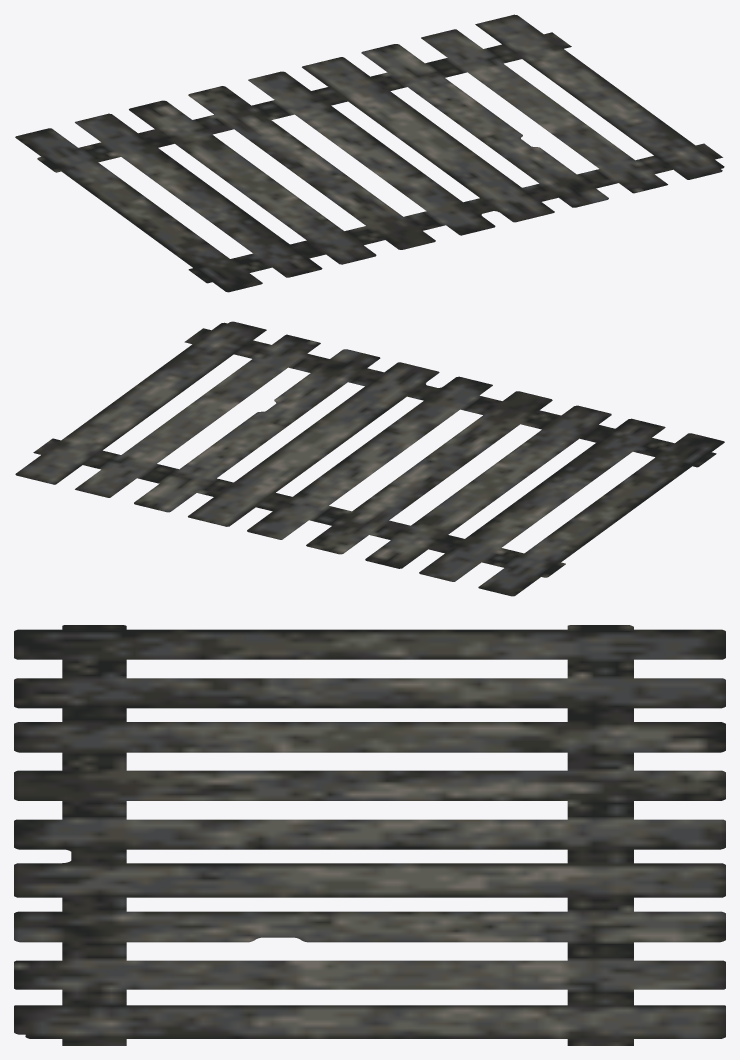
Rendered from SM_EC_Fence_Card_06.fbx.
The picture shows the model from 3 angles, top to bottom: view 1: azimuth 30°, elevation 25°; view 2: azimuth 150°, elevation 25°; view 3: azimuth 270°, elevation 25°; orthographic projection. The views are drawn at different scales.
Visible parts, largest first — view 1: SM_EC_Fence_Card_06; view 2: SM_EC_Fence_Card_06; view 3: SM_EC_Fence_Card_06.
Part boxes in pixels (left/top/right/bottom): SM_EC_Fence_Card_06: left=15, top=14, right=724, bottom=292; SM_EC_Fence_Card_06: left=15, top=321, right=724, bottom=596; SM_EC_Fence_Card_06: left=14, top=625, right=725, bottom=1045.
Bounding box in the file's own units: 1.49 × 1.07 × 0.
